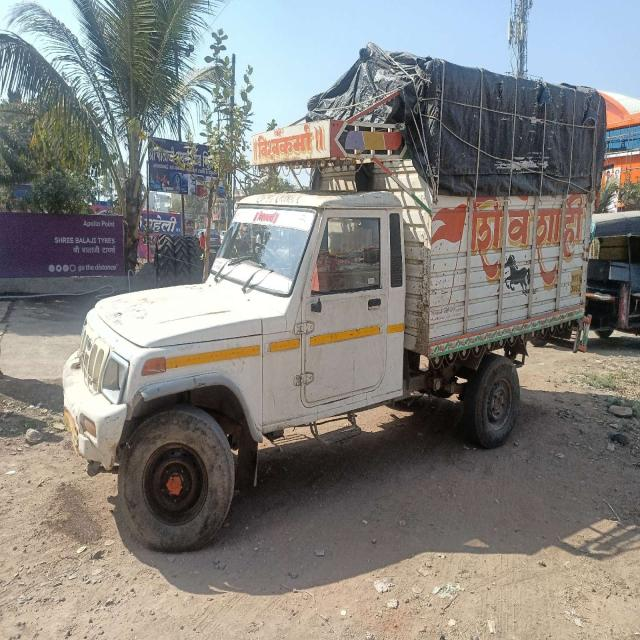light_vehicle: (56, 132, 582, 486)
